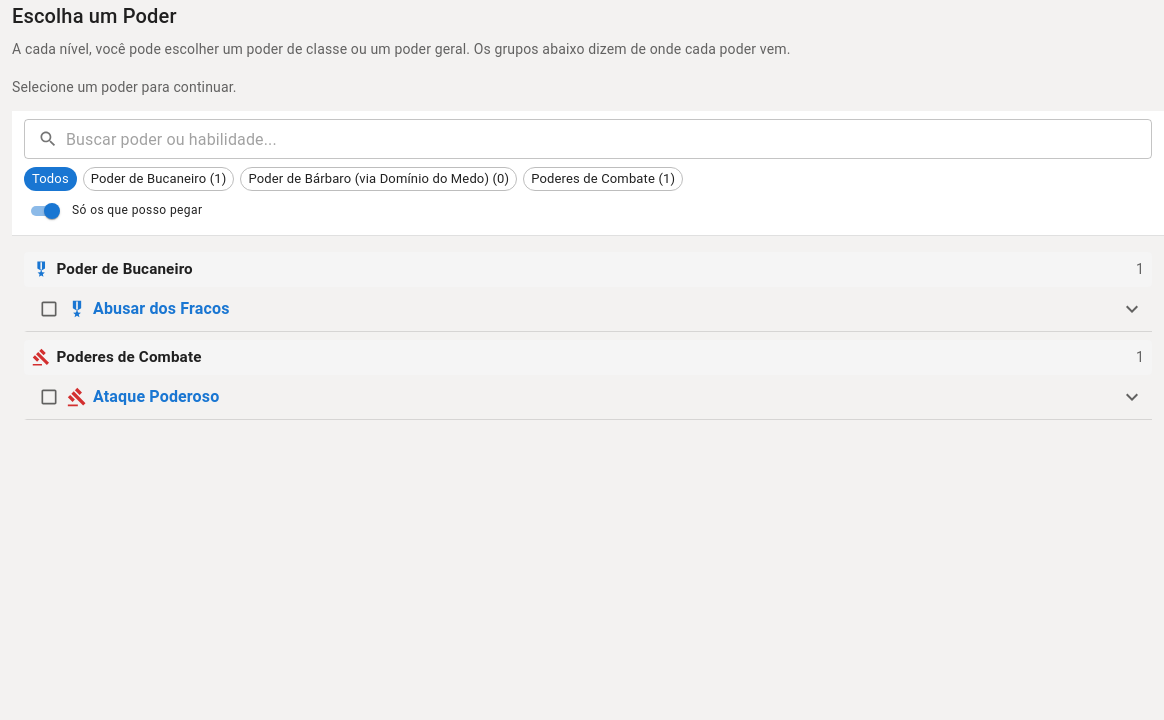
Test: PowerSelectionStep › esconde o poder bloqueado enquanto navega, e o filtro o traz de volta
Expected: the text "Alma Inabalável" is not shown
What coordinates should you click on to do the following:
click the switch labelled "Só os que posso pegar"
I would click on:
 (113, 211)
Its box is [24,199,202,223].
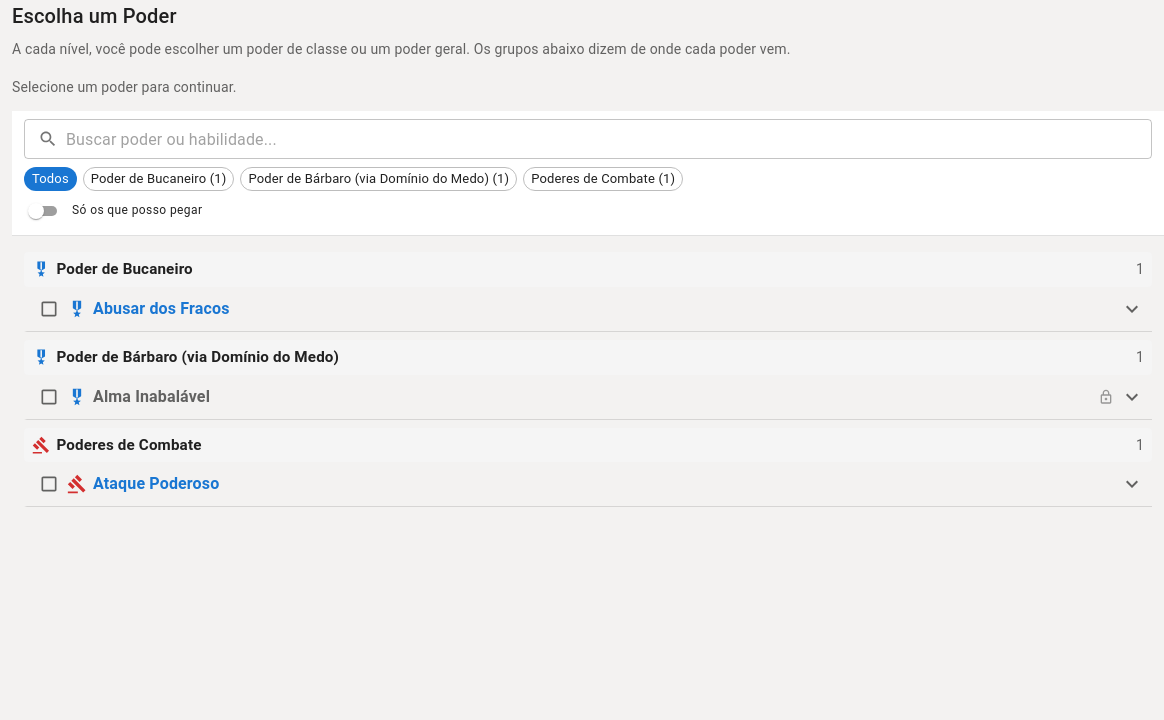
Now the text "Alma Inabalável" is shown, box [93,387,210,406]
